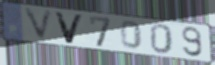0: (149, 23, 175, 56), (119, 20, 144, 52)
7: (88, 15, 113, 48)
9: (180, 26, 204, 59)
V: (21, 7, 56, 44), (52, 11, 87, 45)
